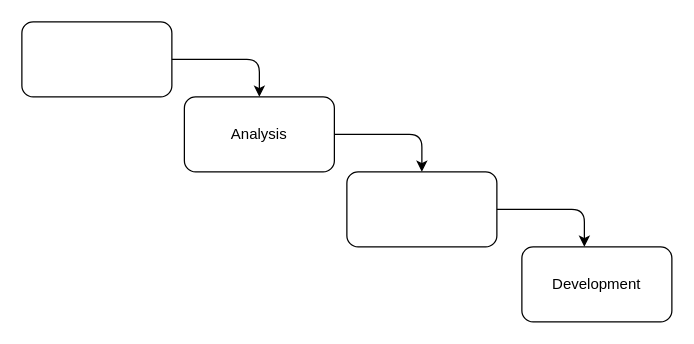
Some shapes in this 694 by 344 pixel diagram are drawn without their labels. Each missing label, with the centre of its shape:
Design: point (421, 209)
Planning: point (96, 59)
